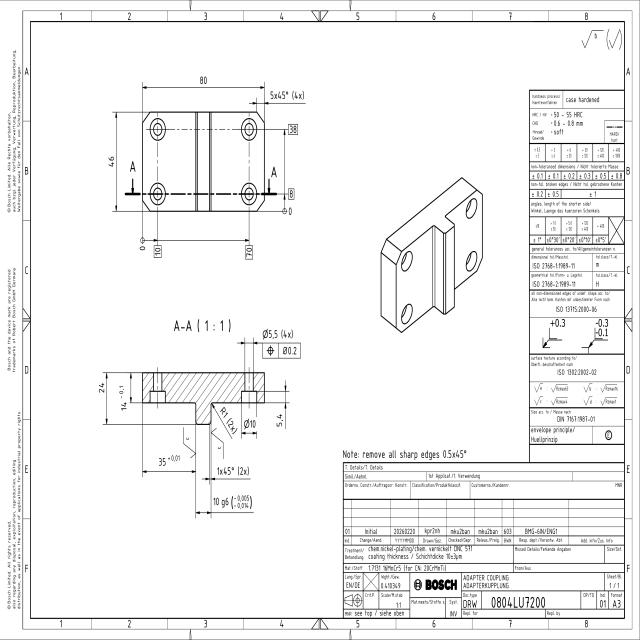dimension: (218, 403, 241, 436), (212, 493, 252, 510), (268, 89, 305, 102), (261, 327, 294, 341), (216, 465, 250, 478), (157, 453, 181, 467), (118, 384, 128, 413), (243, 417, 256, 430), (275, 412, 284, 429), (197, 74, 209, 86), (244, 244, 253, 260), (288, 122, 298, 136), (106, 154, 115, 169), (153, 244, 162, 259), (98, 380, 106, 396), (287, 187, 295, 201), (286, 204, 292, 217), (138, 244, 146, 252)
